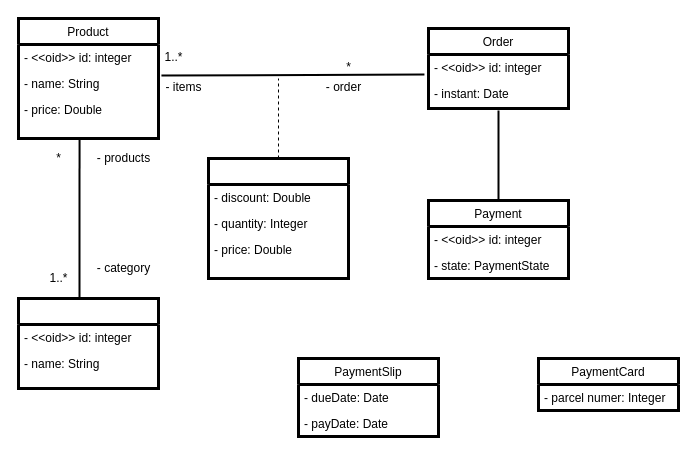
Some shapes in this 697 by 457 pixel diagram are drawn without their labels. The shapes that lost their labels are listed below. From the top down, each one's box as (x1, y1, x2, y2) in pixels, then its label:
(206, 156, 350, 280): ItemOrder
(16, 296, 160, 390): Category
